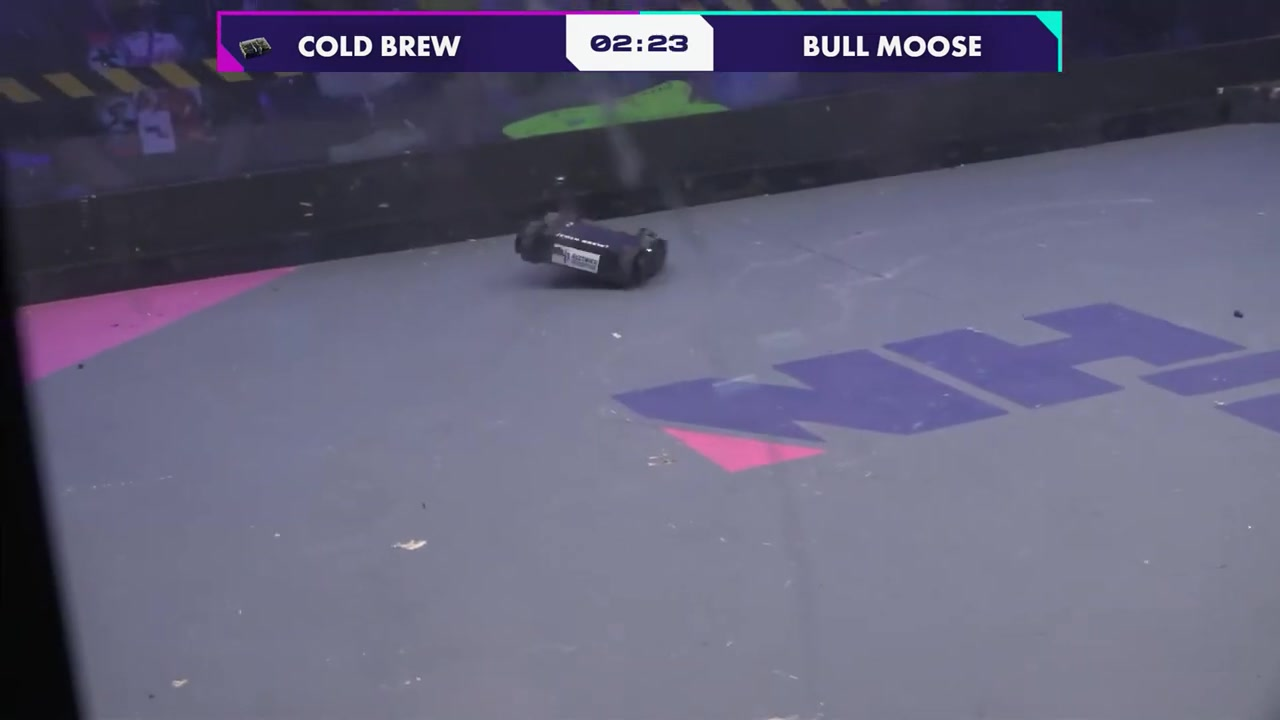combatbot: (514, 211, 667, 291)
